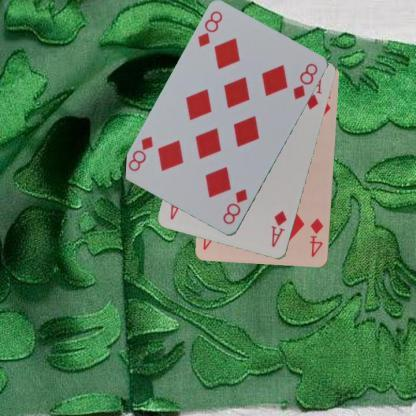4d: (307, 216, 325, 259)
8d: (195, 9, 224, 50), (220, 186, 249, 226)
Ad: (268, 208, 288, 249)
